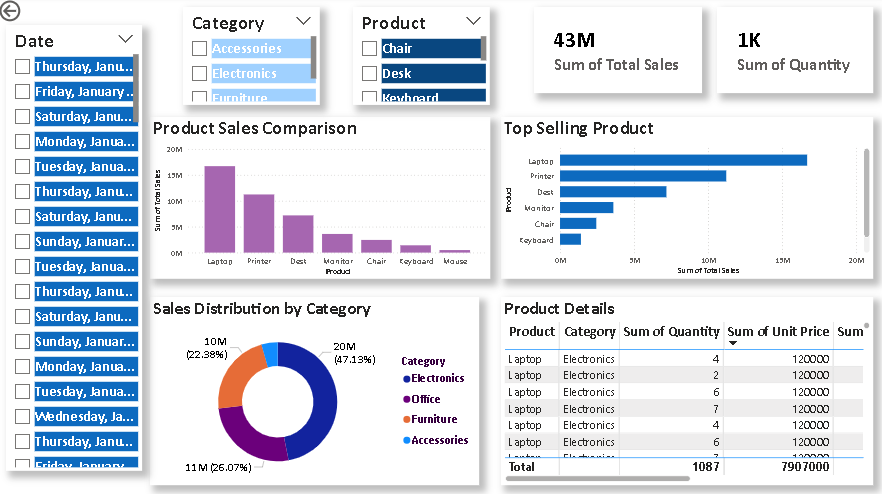

This screenshot's page, from the dashboard's own definition file:
{"tool":"powerbi","page":{"name":"Page 2","canvas":[1280,720],"ordinal":1},"visuals":[{"type":"cardVisual","fields":{"Data":["Sum(Sales_Data.Total Sales)"]},"box":[774.7,14.4,241.9,123.8],"z":0},{"type":"cardVisual","fields":{"Data":["Sum(Sales_Data.Quantity)"]},"box":[1038.2,14.4,224.6,123.8],"z":1000},{"type":"barChart","title":"Top Selling Product","fields":{"Y":["Sum(Sales_Data.Total Sales)"],"Category":["Sales_Data.Product"]},"box":[727.2,172.8,535.7,233.3],"z":2000},{"type":"columnChart","title":"Product Sales Comparison","fields":{"Y":["Sum(Sales_Data.Total Sales)"],"Category":["Sales_Data.Product"]},"box":[221.8,172.8,489.6,233.3],"z":3000},{"type":"donutChart","title":"Sales Distribution by Category","fields":{"Category":["Sales_Data.Category"],"Y":["Sum(Sales_Data.Total Sales)"]},"box":[221.8,432,473.8,270.7],"z":4000},{"type":"tableEx","title":"Product Details","fields":{"Values":["Sales_Data.Product","Sales_Data.Category","Sum(Sales_Data.Quantity)","Sum(Sales_Data.Unit Price)","Sum(Sales_Data.Total Sales)","Sales_Data.Salesperson","Sales_Data.Date.Variation.Date Hierarchy.Year","Sales_Data.Date.Variation.Date Hierarchy.Quarter","Sales_Data.Date.Variation.Date Hierarchy.Month","Sales_Data.Date.Variation.Date Hierarchy.Day"]},"box":[727.2,432,535.7,270.7],"z":5000},{"type":"actionButton","box":[0,0,100,40],"z":6000},{"type":"slicer","fields":{"Values":["Sales_Data.Category"]},"box":[269.3,14.4,197.3,141.1],"z":7000},{"type":"slicer","fields":{"Values":["Sales_Data.Product"]},"box":[514.1,14.4,197.3,141.1],"z":8000},{"type":"slicer","fields":{"Values":["Sales_Data.Date"]},"box":[14.4,40.3,195.8,642.2],"z":9000}]}

Visuals, with their boxes on the page's 1280x720 design canvas (x1, y1, x2, y2). These are canvas units, not pixel positions in the 882x494 screenshot, which may show the page scaled, cropped or inside an application window:
cardVisual - Sum(Sales_Data.Total Sales): x1=775, y1=14, x2=1017, y2=138
cardVisual - Sum(Sales_Data.Quantity): x1=1038, y1=14, x2=1263, y2=138
"Top Selling Product" barChart: x1=727, y1=173, x2=1263, y2=406
"Product Sales Comparison" columnChart: x1=222, y1=173, x2=711, y2=406
"Sales Distribution by Category" donutChart: x1=222, y1=432, x2=696, y2=703
"Product Details" tableEx: x1=727, y1=432, x2=1263, y2=703
actionButton: x1=0, y1=0, x2=100, y2=40
slicer - Sales_Data.Category: x1=269, y1=14, x2=467, y2=156
slicer - Sales_Data.Product: x1=514, y1=14, x2=711, y2=156
slicer - Sales_Data.Date: x1=14, y1=40, x2=210, y2=682
